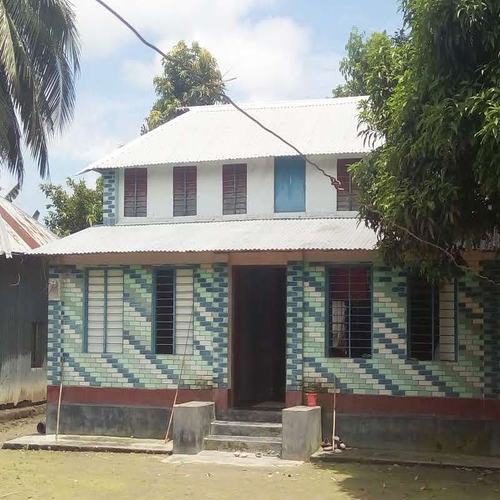Tin-shade House: (36, 105, 477, 441)
